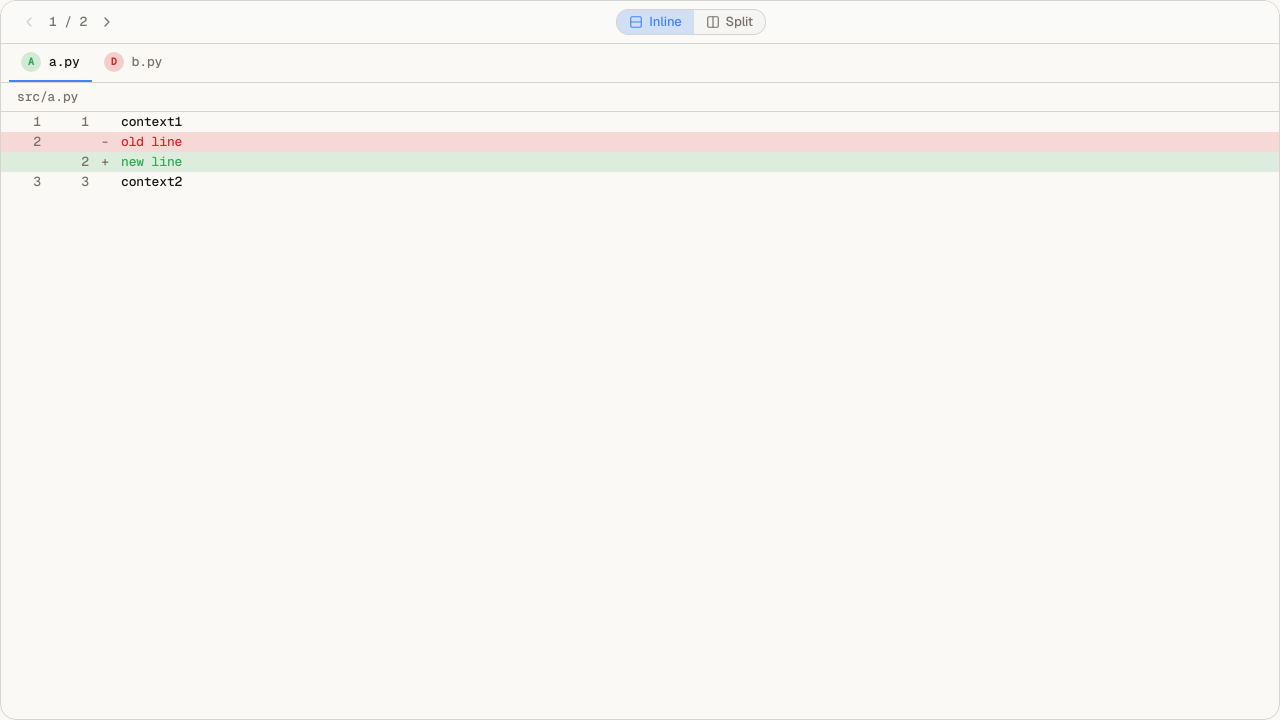
DiffViewer › navigates between files and disables prev/next at the bounds
The width and height of the screenshot is (1280, 720).
Expected: the button titled "Previous file" is disabled, left=17, top=10, right=41, bottom=34
Click the button titled "Next file" at (107, 22), box left=95, top=10, right=119, bottom=34
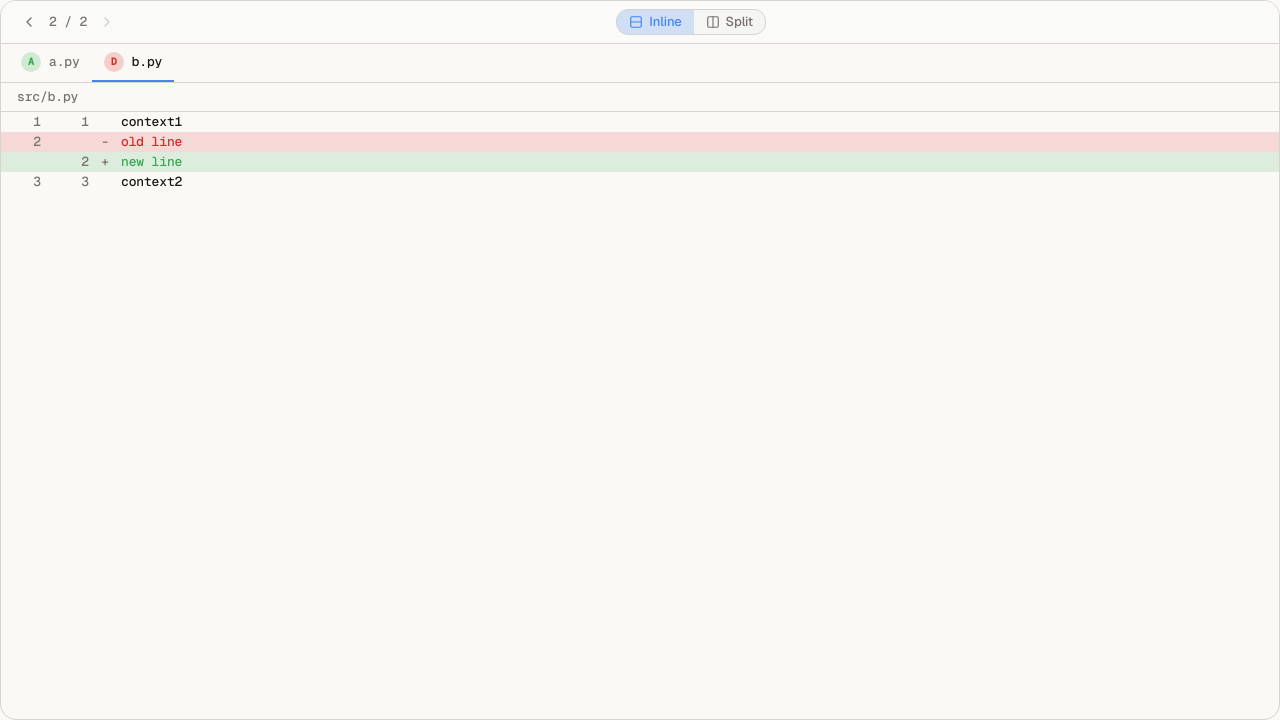
Expected: the button titled "Previous file" is shown, left=17, top=10, right=41, bottom=34
Expected: the button titled "Next file" is disabled, left=95, top=10, right=119, bottom=34
Expected: the text "2 / 2" is shown, left=49, top=14, right=87, bottom=30
